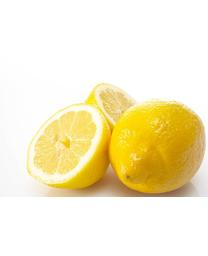lemon: (109, 98, 205, 197), (25, 102, 111, 189)
